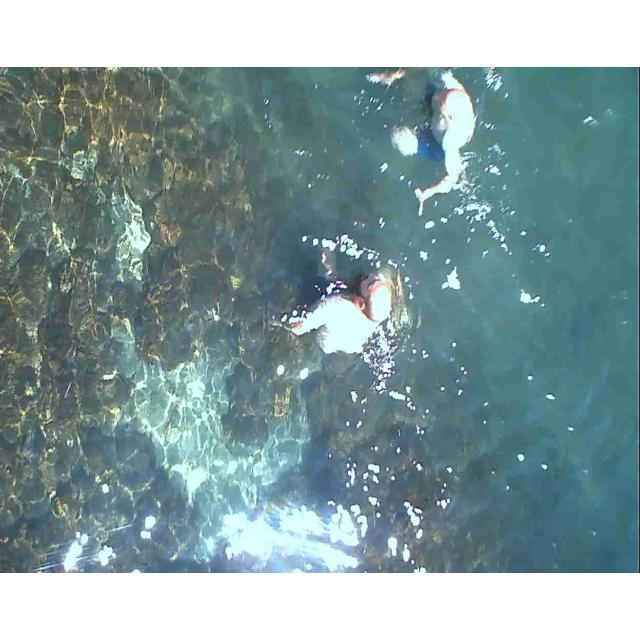human: (364, 67, 468, 228), (279, 244, 390, 361)
